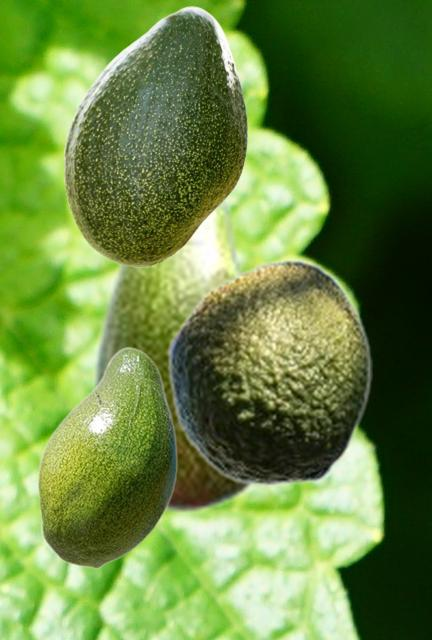avocado: (92, 194, 262, 516), (63, 6, 246, 266), (166, 259, 371, 485), (37, 346, 177, 568)
